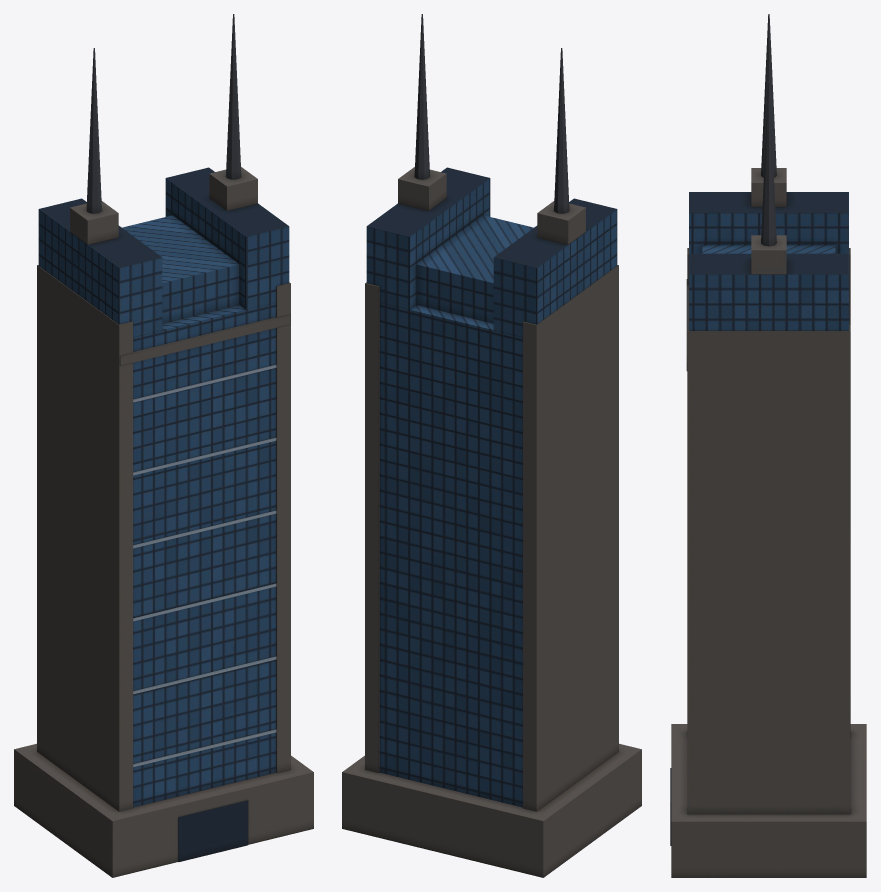
Rendered from batman_building.glb.
3 renders of one model, left to right at view 1: azimuth 30°, elevation 25°; view 2: azimuth 150°, elevation 25°; view 3: azimuth 270°, elevation 25°, orthographic.
Parts seen in each view (by area): view 1: batman_building; view 2: batman_building; view 3: batman_building.
Boxes of the visible parts, box(x1,y1,x2,y2) form: batman_building: box(14, 14, 313, 877); batman_building: box(342, 14, 641, 877); batman_building: box(670, 14, 866, 877).
Bounding box in the file's own units: 26 × 97 × 22.1.
Materials: 1 (1 with a texture image).
